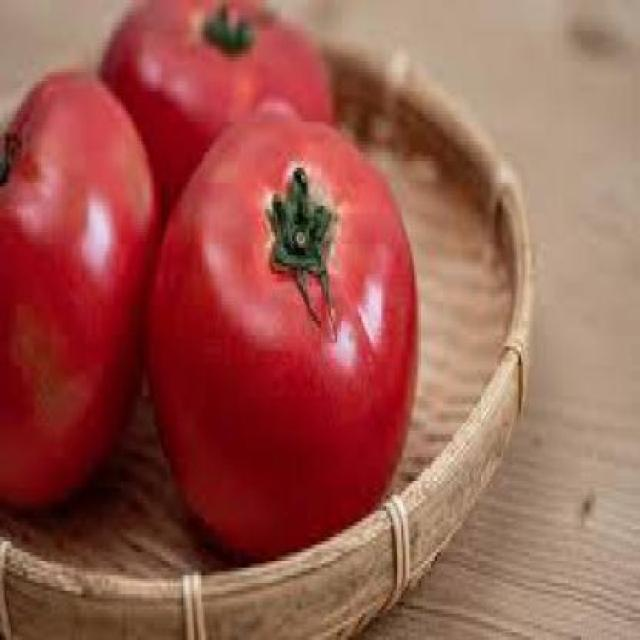kirmizi: (4, 12, 421, 566)
